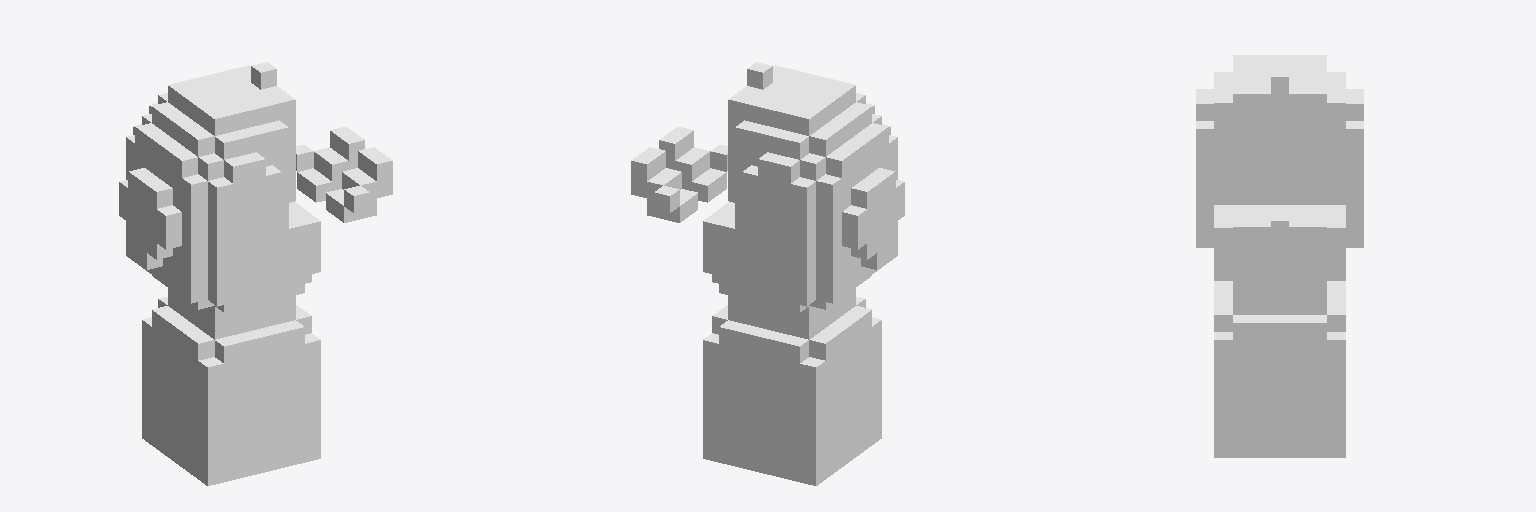
Rendered from priestess.vox.obj.
3 renders of one model, left to right at view 1: azimuth 30°, elevation 25°; view 2: azimuth 150°, elevation 25°; view 3: azimuth 270°, elevation 25°, orthographic.
Visible parts, largest first — view 1: object 1; view 2: object 1; view 3: object 1.
Boxes of the visible parts, <box> form: object 1: <box>119,62,392,485</box>; object 1: <box>631,62,904,485</box>; object 1: <box>1196,55,1363,457</box>.
Size of the model in its own units: 1.4 by 2.2 by 0.9.